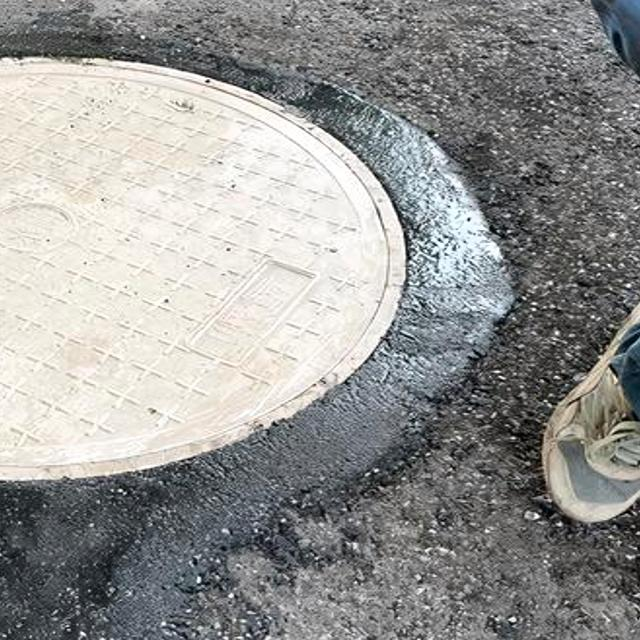good: (0, 17, 525, 583)
